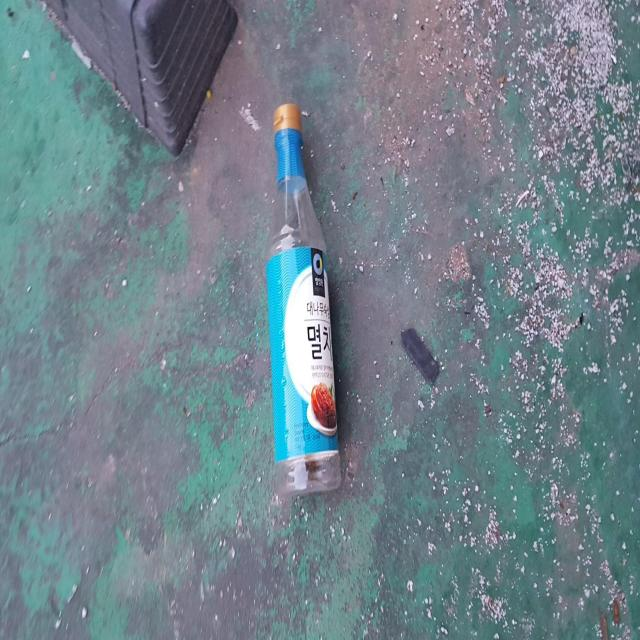plastic: (266, 102, 341, 500)
